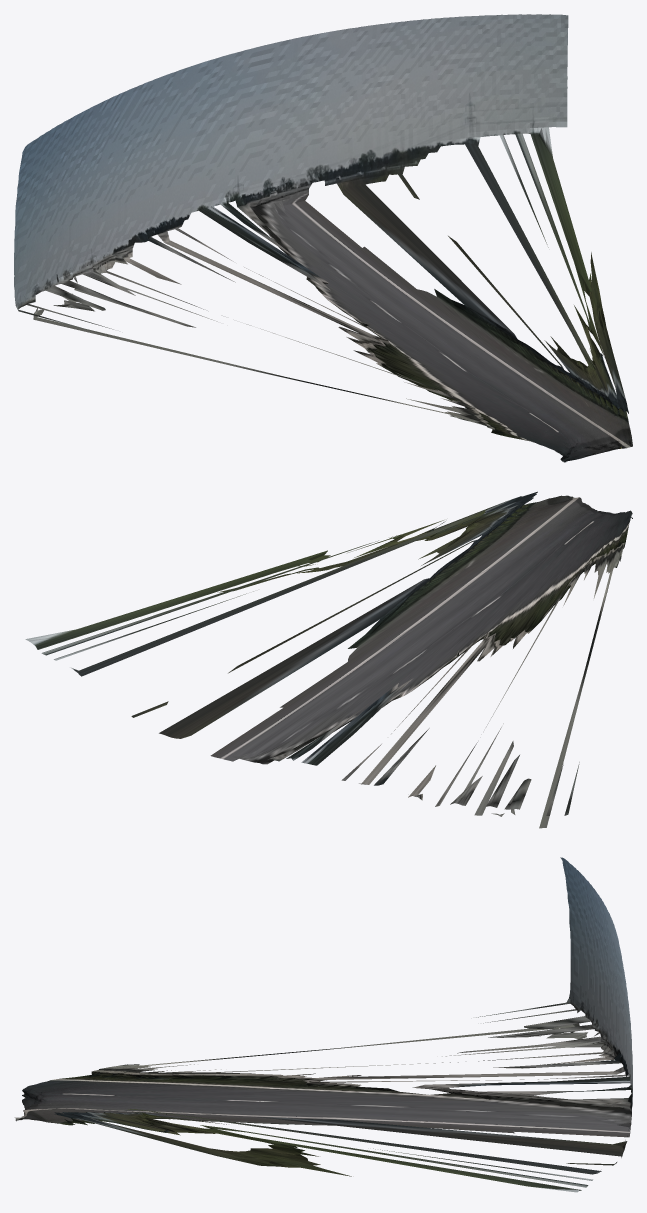
The picture shows the model from 3 angles, top to bottom: view 1: azimuth 30°, elevation 25°; view 2: azimuth 150°, elevation 25°; view 3: azimuth 270°, elevation 25°; orthographic projection. The views are drawn at different scales.
Parts seen in each view (by area): view 1: defaultobject; view 2: defaultobject; view 3: defaultobject.
Part boxes in pixels (box(x1,y1,x2,y2)): defaultobject: box(14, 14, 632, 462); defaultobject: box(25, 491, 632, 828); defaultobject: box(14, 857, 632, 1192).
Bounding box in the file's own units: 41.14 × 13.64 × 44.73.
1 material, 1 textured.
